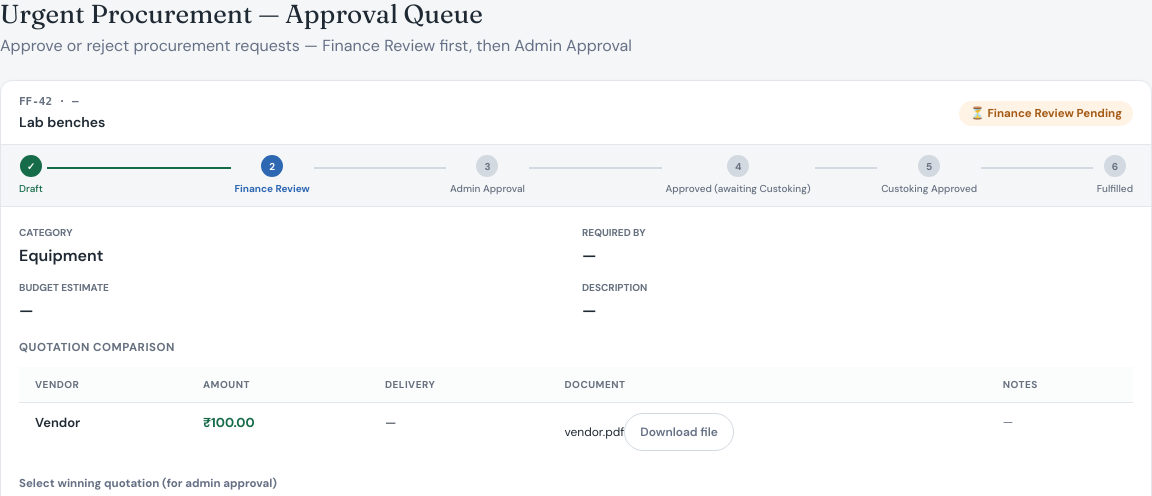
Test case: Approval quotation attachments › keeps a failed download actionable and distinguishes unavailable storage from an attached reference
The image size is (1152, 496).
Click the button with aria-label "Download vendor.pdf" at (679, 432), box [624,413,734,451]
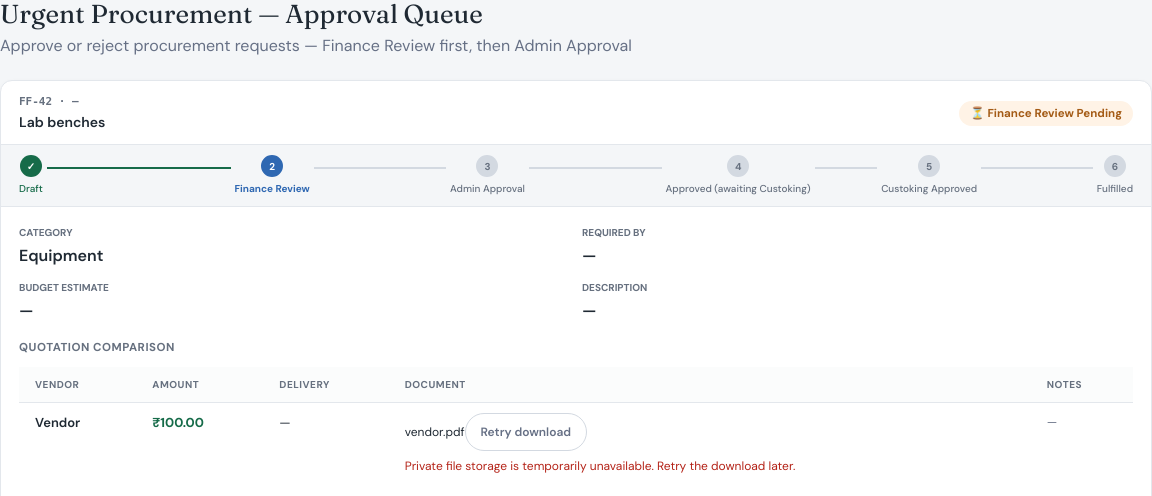
Expected: the button with aria-label "Download vendor.pdf" is enabled, [464,413,587,451]
Expected: the message shows "Private file storage is temporarily unavailable", [405,458,795,474]
Expected: the button with aria-label "Download vendor.pdf" reads "Retry download", [464,413,587,451]
